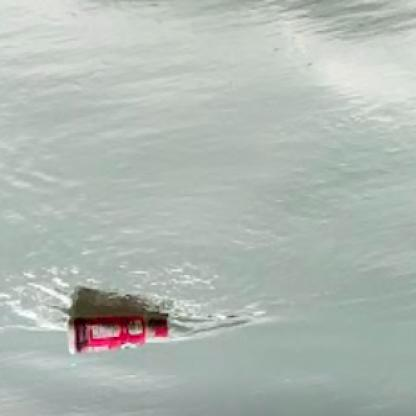Plastic: (62, 314, 174, 357)
